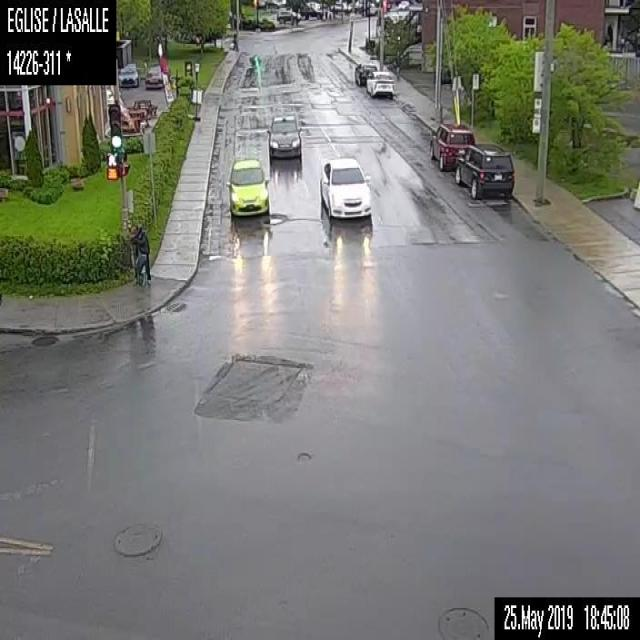pedestrian: (134, 223, 151, 285), (129, 225, 141, 283)
vehicle: (453, 142, 515, 201), (318, 156, 372, 217), (226, 155, 269, 217), (426, 120, 474, 171), (266, 112, 302, 161), (364, 68, 393, 98), (354, 60, 376, 86), (118, 62, 139, 87), (275, 7, 301, 25), (144, 63, 162, 88)
